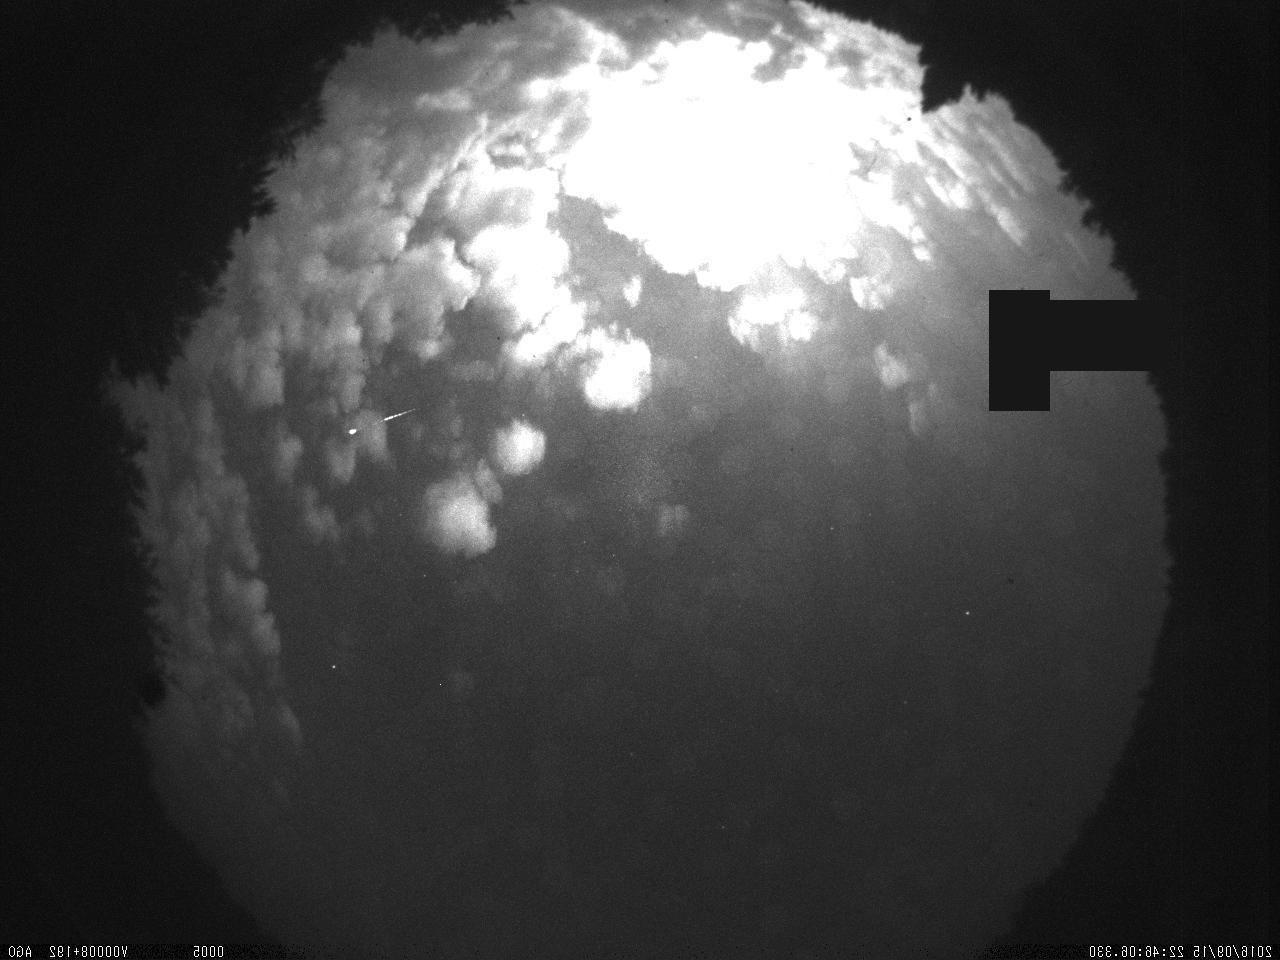meteor: (334, 396, 429, 453)
